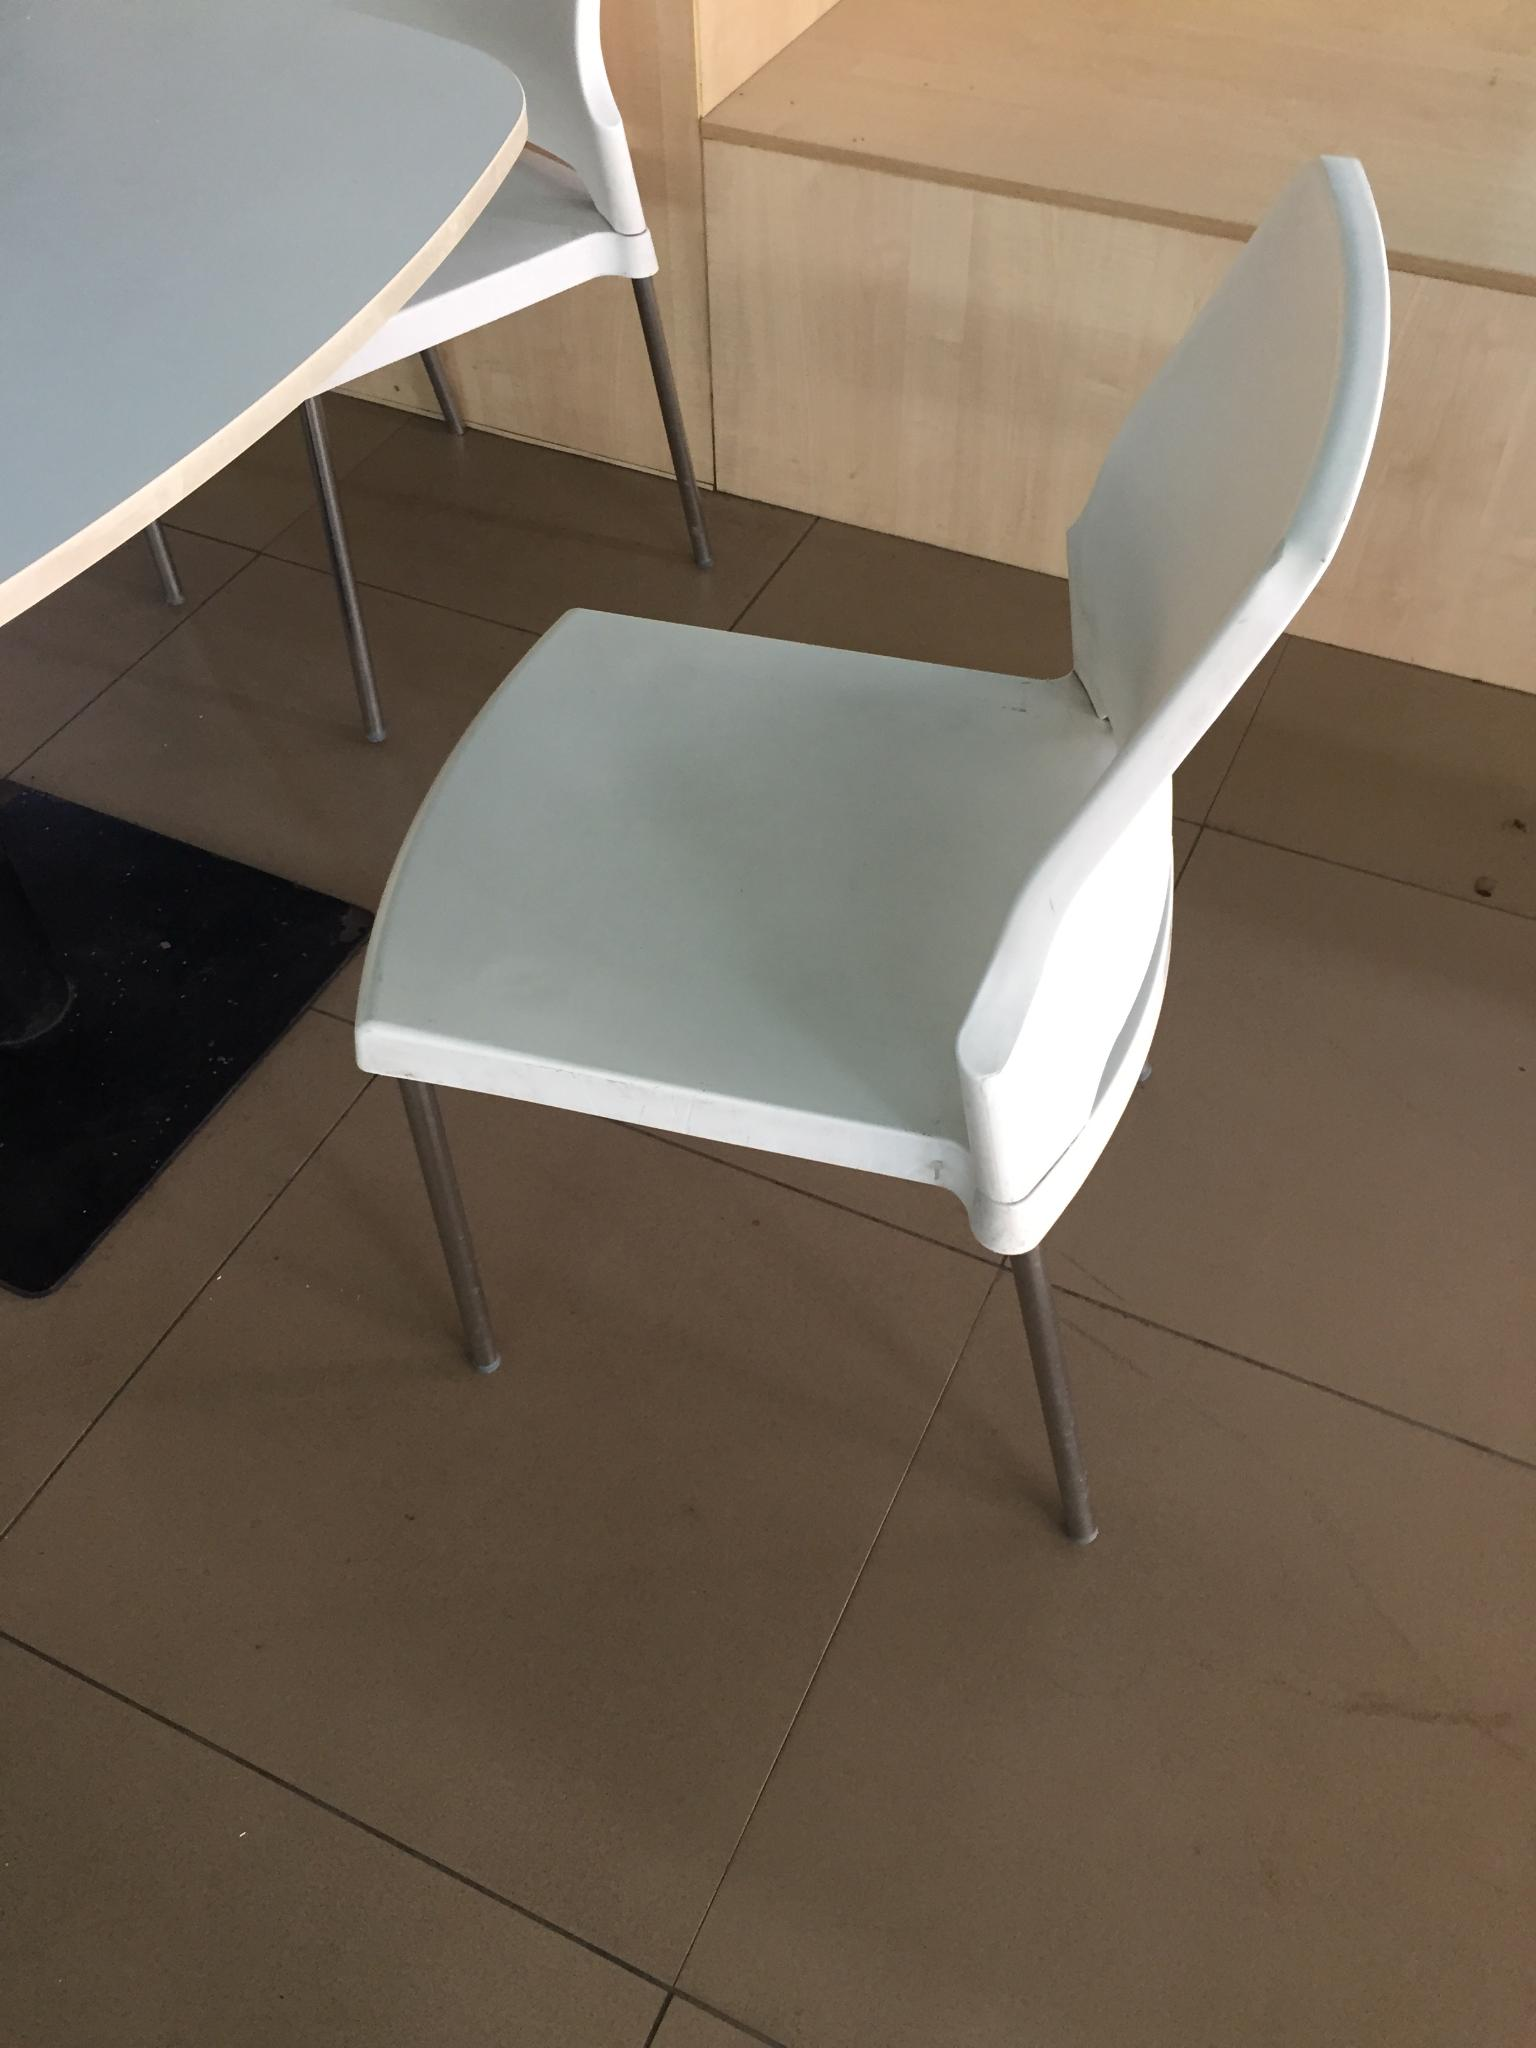chair: (352, 152, 1392, 1546), (139, 2, 713, 745)
